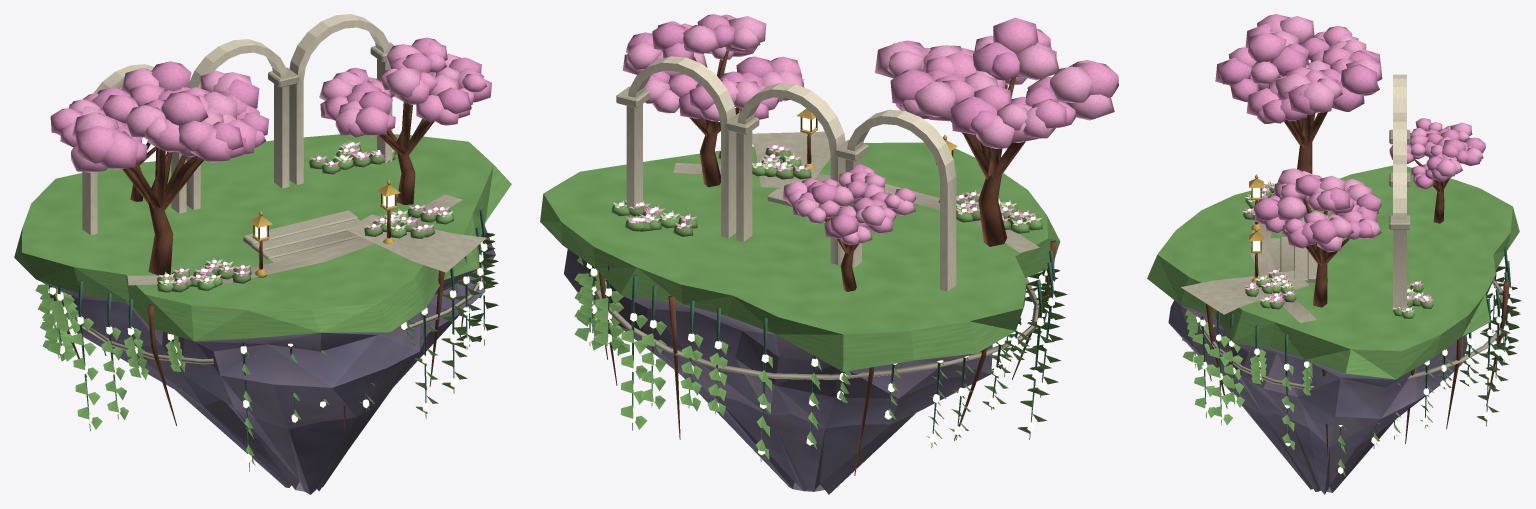
The model's file is sky-garden.glb.
3 views of the same model, side by side, from view 1: azimuth 30°, elevation 25°; view 2: azimuth 150°, elevation 25°; view 3: azimuth 270°, elevation 25° (orthographic). The views are drawn at different scales.
Visible parts, largest first — view 1: sky-garden; view 2: sky-garden; view 3: sky-garden.
Part boxes in pixels (x1,y1,x2,y2): sky-garden: [14, 14, 511, 494]; sky-garden: [540, 14, 1118, 494]; sky-garden: [1147, 14, 1521, 494].
Size of the model in its own units: 13.38 by 12.31 by 10.72.
Materials: 9 (9 with a texture image).
